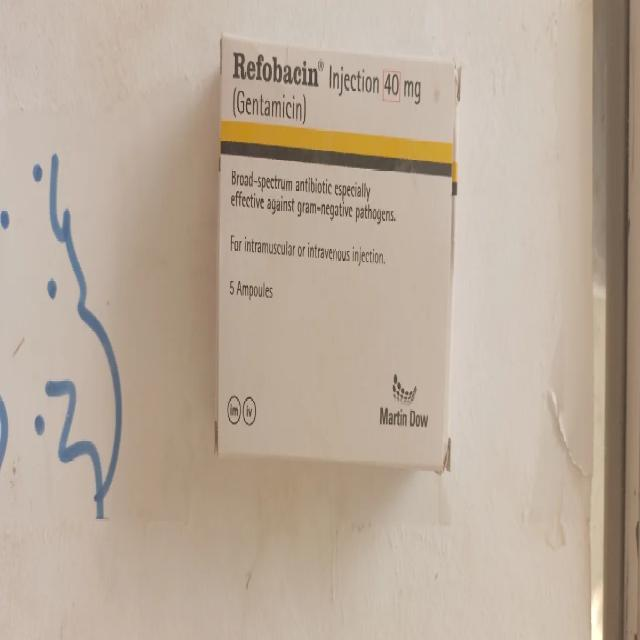drug-name: (230, 51, 322, 89)
